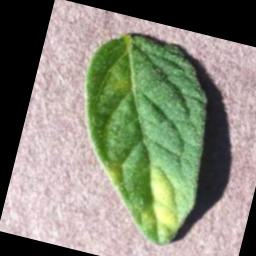Leaf_Mold: (120, 158, 199, 248)
